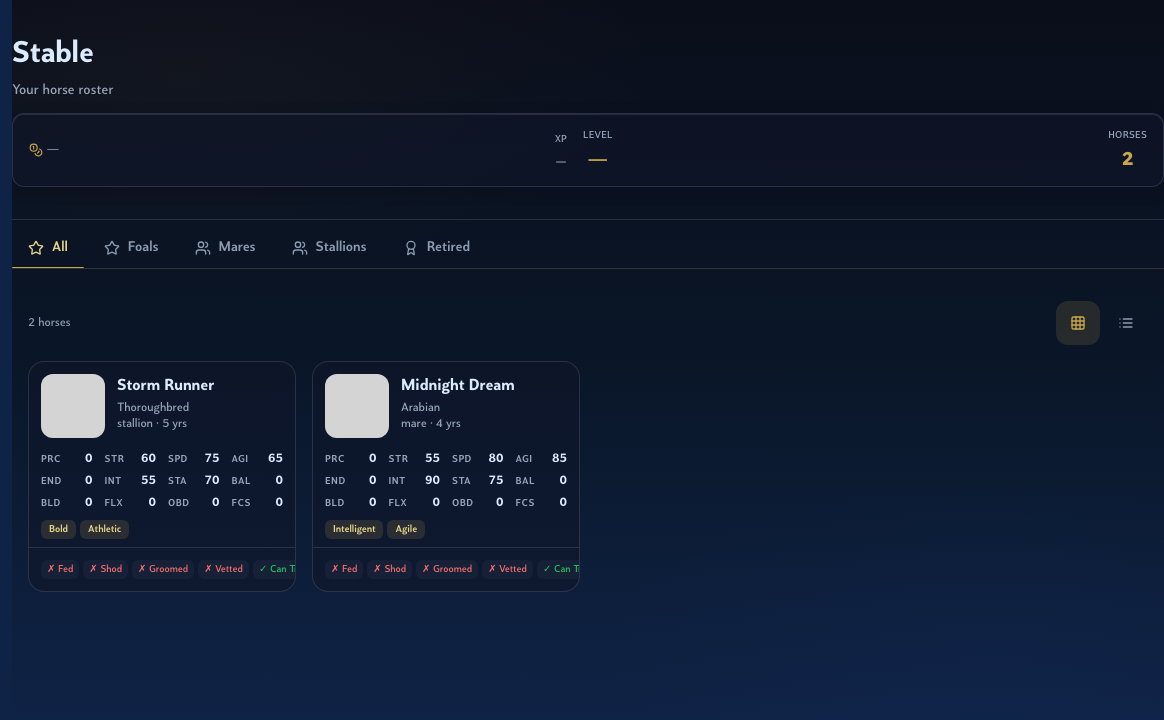
Test: StableView — category tab filter (Equoria-o5hub.30) › Mares tab filters to the mare only
Check: the text "Midnight Dream" is shown, box [401,378,514,394]
Click the tab "Mares".
click(225, 248)  # box [179,228,272,268]
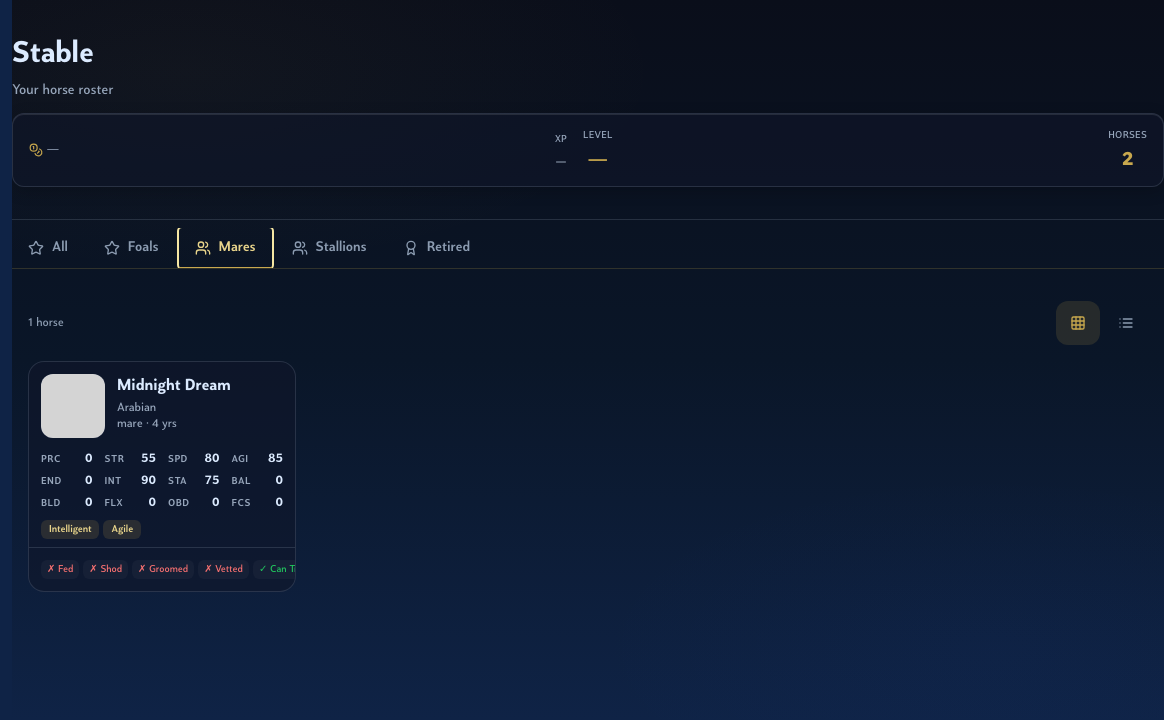
Check: the text "Midnight Dream" is shown, box [117,378,230,394]
Check: the button "Storm Runner" is gone
